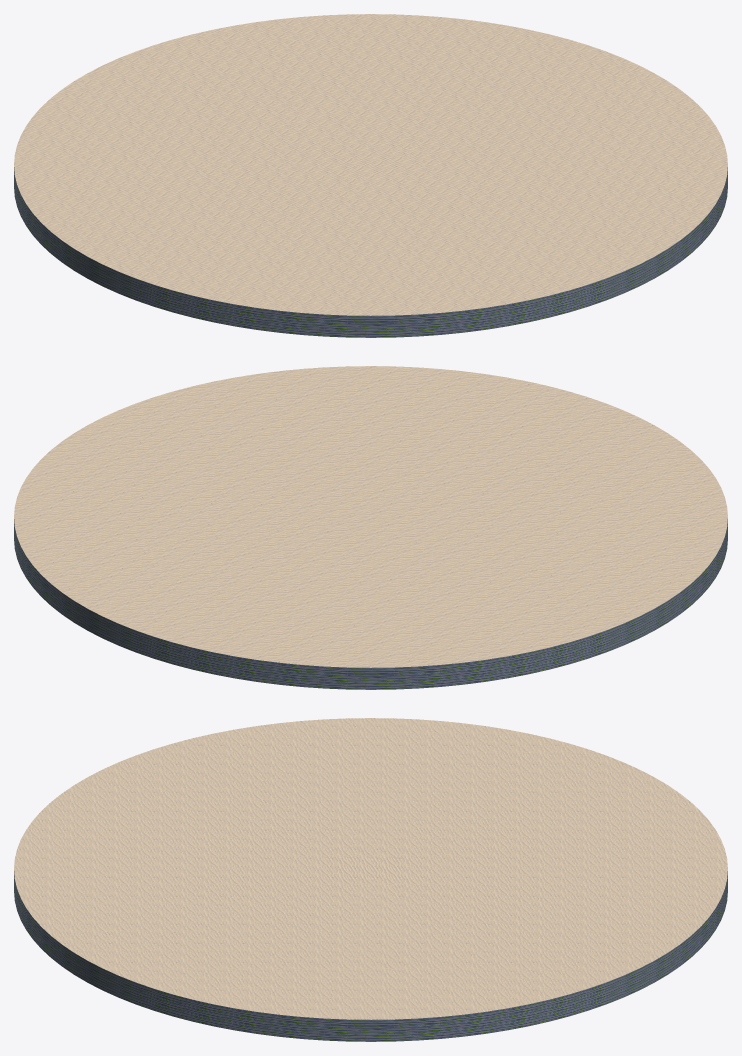
File: island.glb
The picture shows the model from 3 angles, top to bottom: view 1: azimuth 30°, elevation 25°; view 2: azimuth 150°, elevation 25°; view 3: azimuth 270°, elevation 25°; orthographic projection.
Parts seen in each view (by area): view 1: island-top, island-cliff; view 2: island-top, island-cliff; view 3: island-top, island-cliff.
Part boxes in pixels (box(x1,y1,x2,y2)): island-top: box(14, 14, 727, 315); island-cliff: box(14, 167, 727, 337); island-top: box(14, 366, 727, 667); island-cliff: box(14, 519, 727, 689); island-top: box(14, 718, 727, 1019); island-cliff: box(14, 871, 727, 1041).
Size of the model in its own units: 176 by 6 by 176.
Materials: 2 (2 with a texture image).
